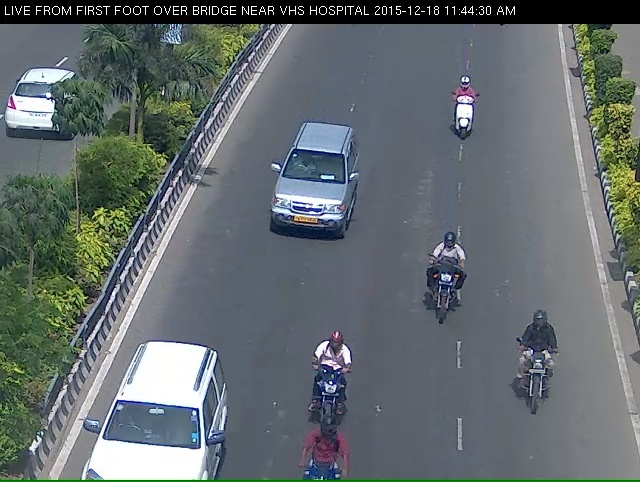Car: (77, 374, 225, 480), (247, 135, 363, 254)
Person: (291, 360, 358, 476), (414, 242, 475, 347), (511, 332, 565, 447), (446, 73, 488, 155)
